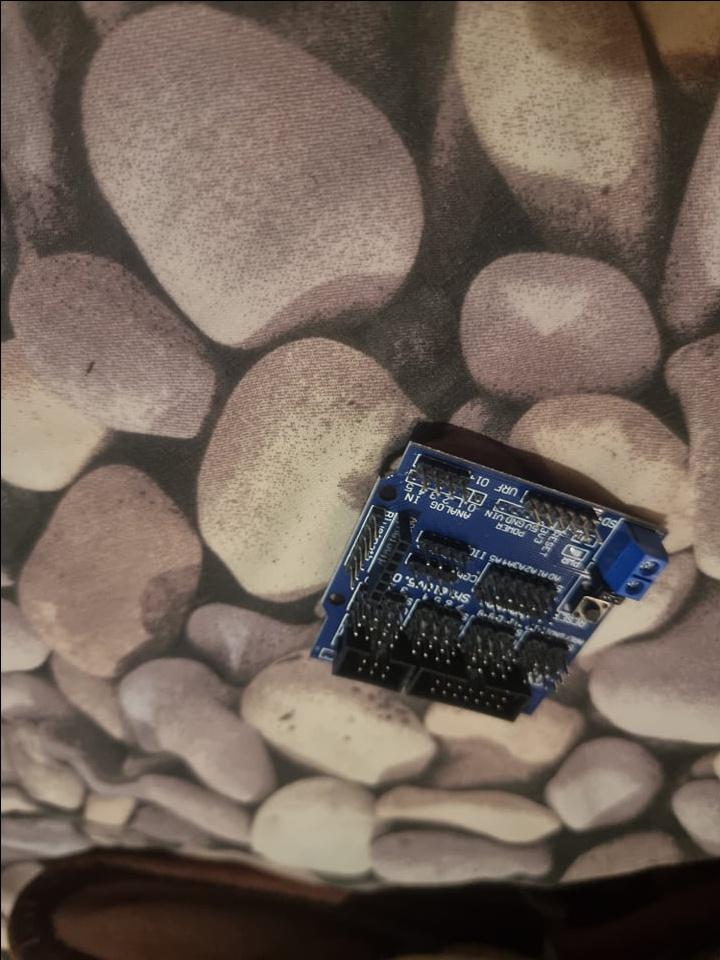5V EXPANSION: (306, 438, 670, 722)
